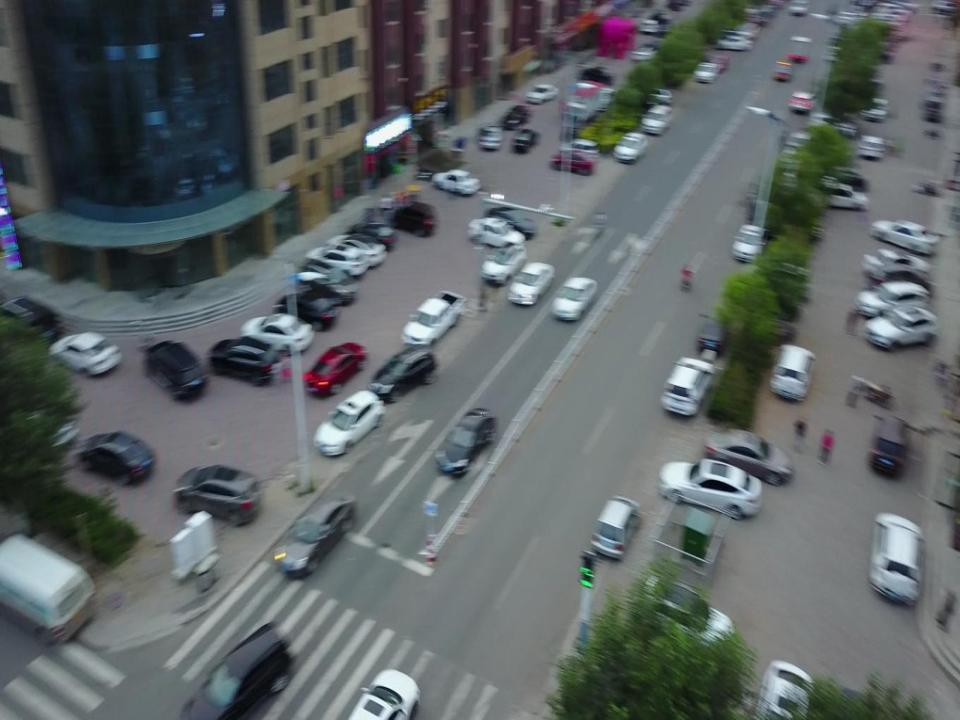car: (176, 625, 294, 720), (642, 568, 734, 659), (272, 490, 359, 574), (656, 457, 766, 522), (698, 426, 796, 491), (869, 507, 924, 607), (171, 468, 259, 525), (314, 392, 384, 461), (435, 404, 500, 474), (139, 341, 212, 403), (202, 331, 286, 383), (752, 652, 816, 720), (342, 669, 419, 720), (80, 433, 154, 482), (302, 343, 369, 395), (870, 298, 936, 348), (589, 498, 644, 557), (663, 357, 714, 419), (369, 349, 436, 396), (48, 332, 123, 373), (858, 282, 924, 325), (871, 214, 935, 258), (274, 293, 337, 336), (242, 314, 314, 350), (863, 243, 926, 283), (871, 413, 910, 477), (772, 340, 812, 401), (486, 202, 538, 246), (382, 197, 440, 236), (508, 255, 554, 303), (552, 272, 596, 321), (469, 216, 525, 254), (300, 276, 361, 308), (326, 234, 382, 267), (483, 241, 524, 284), (307, 246, 365, 274), (816, 181, 868, 210), (340, 222, 392, 250), (432, 166, 480, 196), (732, 222, 765, 265)
truck: (403, 290, 467, 350)
van: (0, 535, 100, 640)
